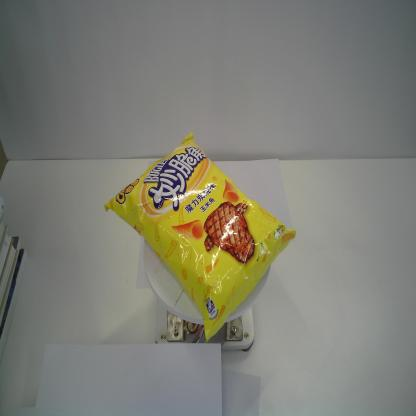Puffed Food: (104, 132, 297, 345)
